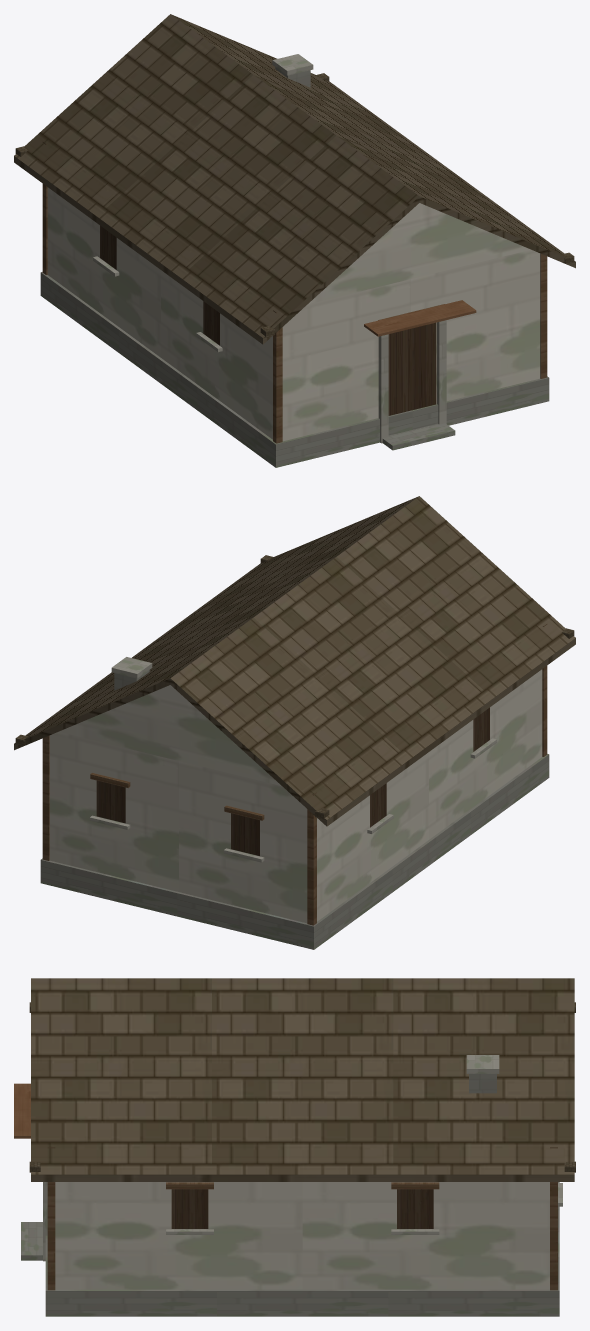
The model's file is ae_forest_stone_large_hall_lod0.glb.
3 views of the same model, one above another, from view 1: azimuth 30°, elevation 25°; view 2: azimuth 150°, elevation 25°; view 3: azimuth 270°, elevation 25° (orthographic). The views are drawn at different scales.
Parts seen in each view (by area): view 1: ae_forest_stone_large_hall_lod0; view 2: ae_forest_stone_large_hall_lod0; view 3: ae_forest_stone_large_hall_lod0.
Part boxes in pixels (x1,y1,x2,y2): ae_forest_stone_large_hall_lod0: (14, 14, 575, 467); ae_forest_stone_large_hall_lod0: (14, 496, 575, 949); ae_forest_stone_large_hall_lod0: (14, 978, 575, 1316).
Size of the model in its own units: 7 by 5.2 by 9.97.
Materials: 1 (1 with a texture image).
